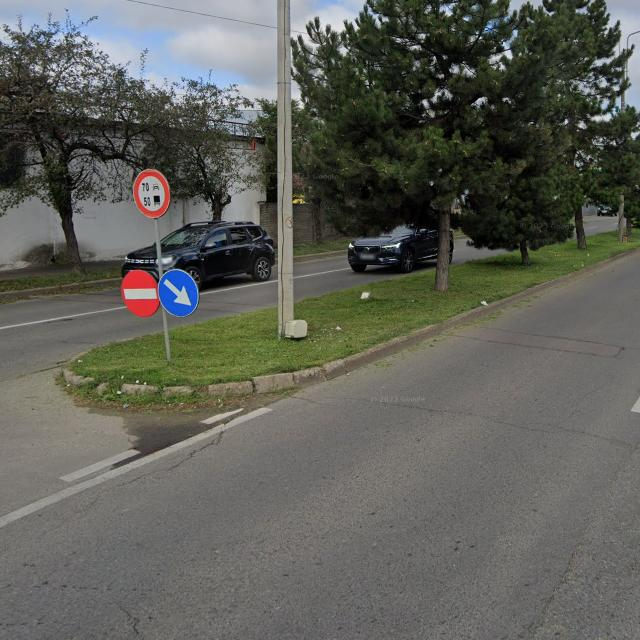forb_ahead: (121, 269, 160, 317)
mand_pass_right: (158, 268, 199, 316)
